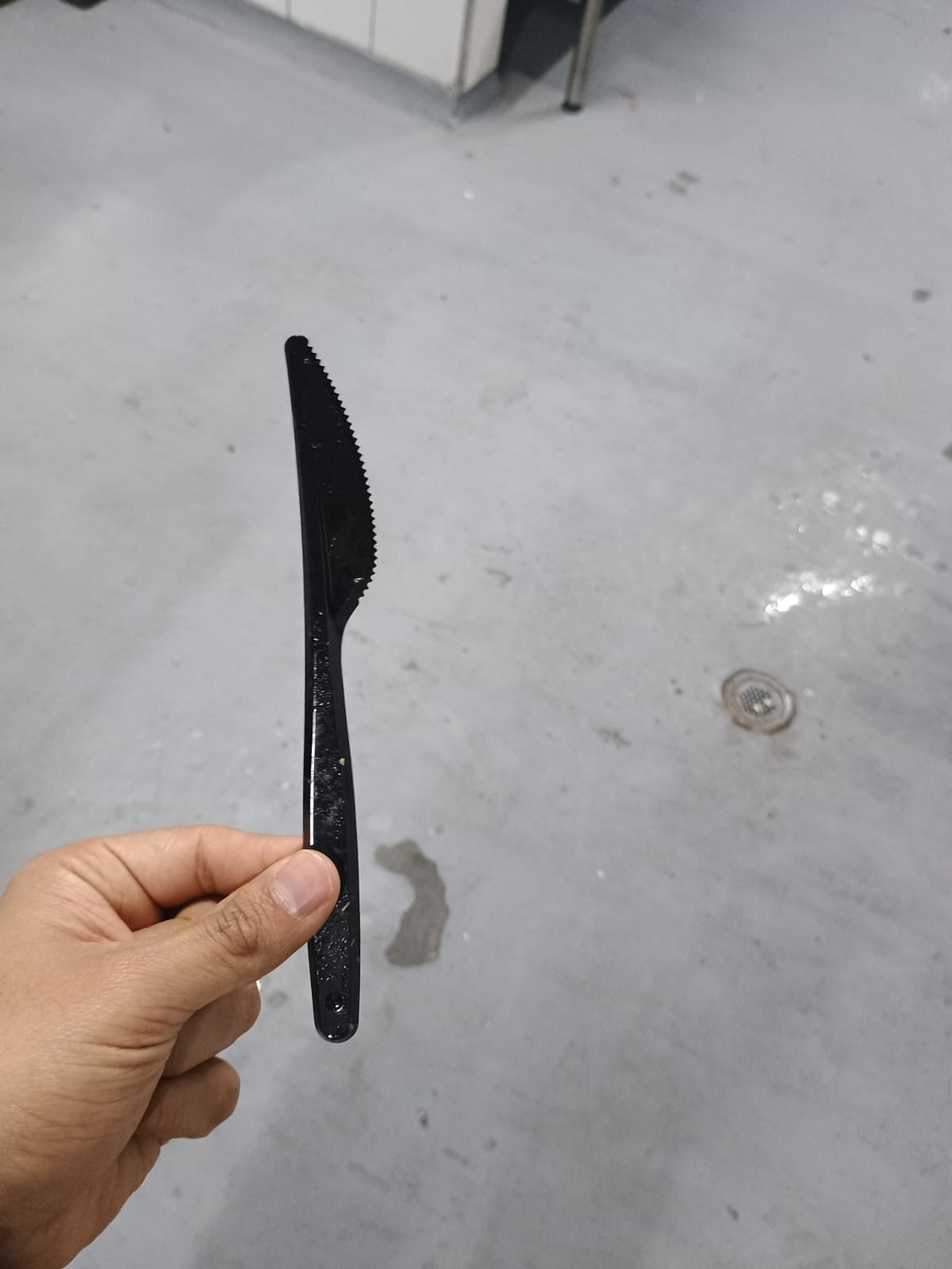Ordinario: (281, 324, 372, 1041)
